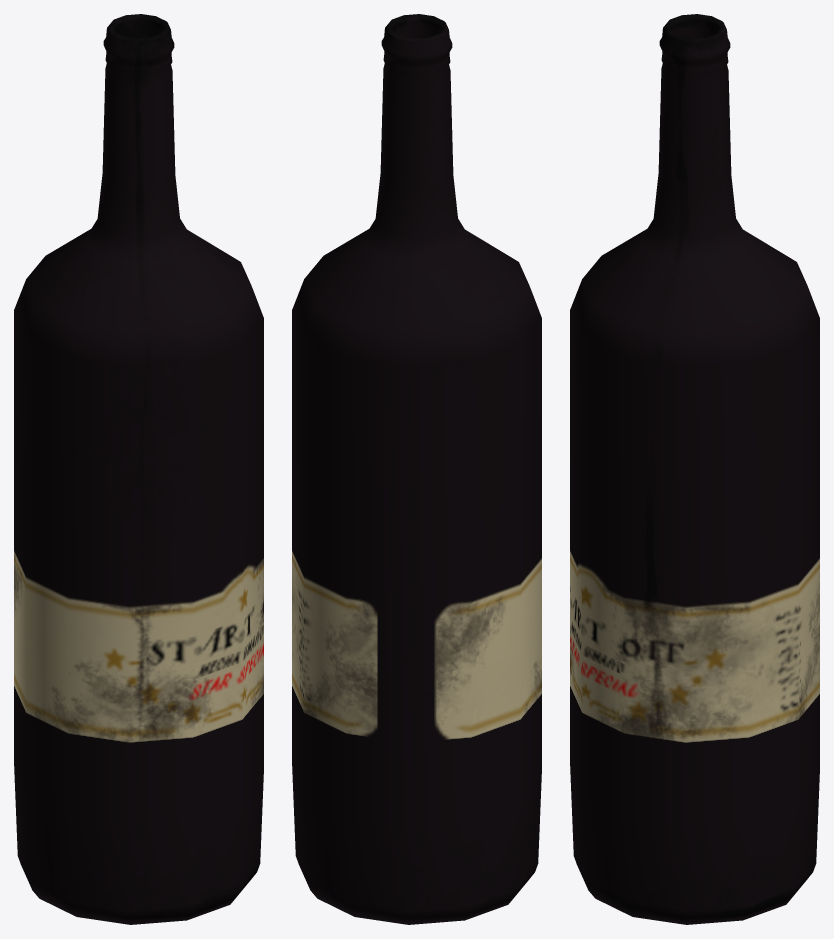
Rendered from bin_01.fbx.
3 renders of one model, left to right at view 1: azimuth 30°, elevation 25°; view 2: azimuth 150°, elevation 25°; view 3: azimuth 270°, elevation 25°, orthographic.
Parts seen in each view (by area): view 1: bin_re_0225:pCylinder34; view 2: bin_re_0225:pCylinder34; view 3: bin_re_0225:pCylinder34.
Part boxes in pixels (left/top/right/bottom): bin_re_0225:pCylinder34: left=14, top=14, right=263, bottom=924; bin_re_0225:pCylinder34: left=292, top=14, right=541, bottom=924; bin_re_0225:pCylinder34: left=570, top=14, right=819, bottom=924.
Size of the model in its own units: 11.29 by 42.46 by 11.29.
Materials: 1 (1 with a texture image).
